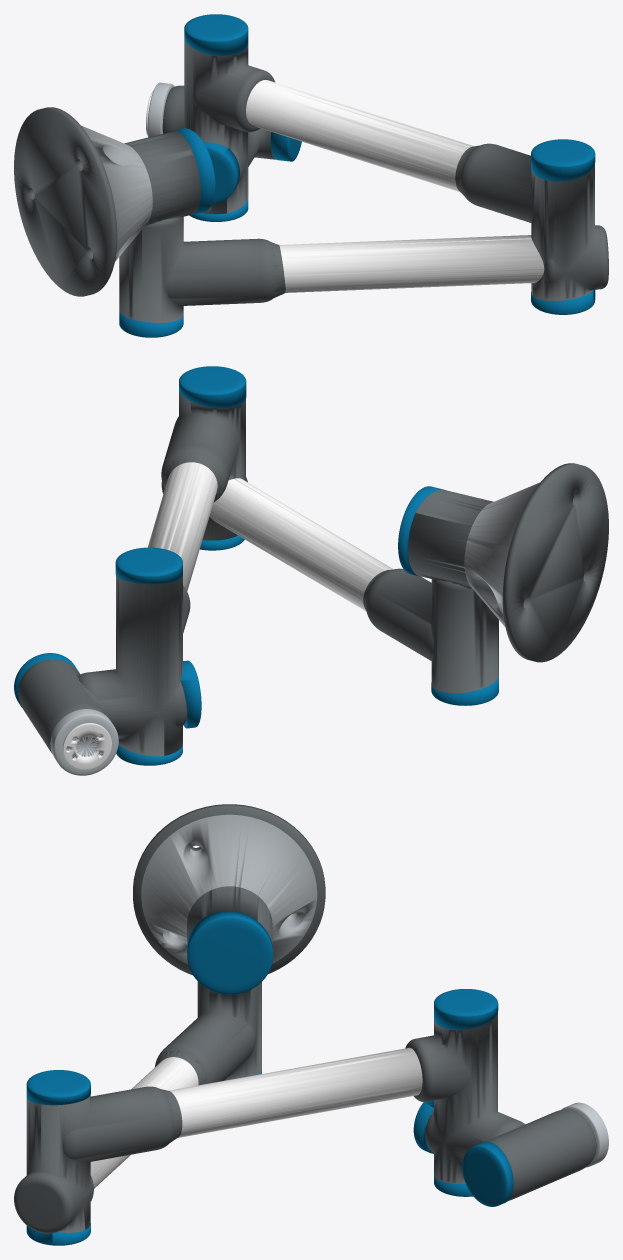
Rendered from Mini-robotarm-NR-UR-Model1_scale80.obj.
3 views of the same model, one above another, from view 1: azimuth 30°, elevation 25°; view 2: azimuth 150°, elevation 25°; view 3: azimuth 270°, elevation 25° (orthographic). The views are drawn at different scales.
Parts seen in each view (by area): view 1: obj_0; view 2: obj_0; view 3: obj_0.
Boxes of the visible parts, x1=… form: obj_0: x1=14, y1=14, x2=608, y2=337; obj_0: x1=14, y1=366, x2=608, y2=775; obj_0: x1=14, y1=804, x2=608, y2=1245.
Size of the model in its own units: 103 by 53.25 by 116.
